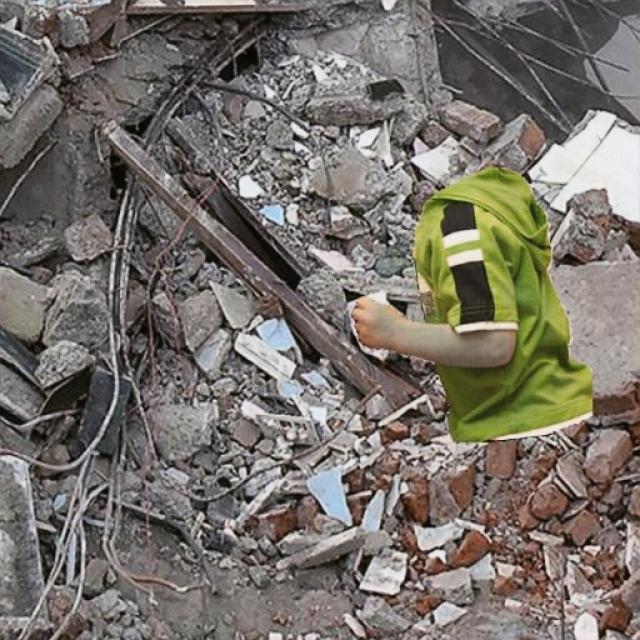Person in Rubble: (351, 168, 591, 442)
